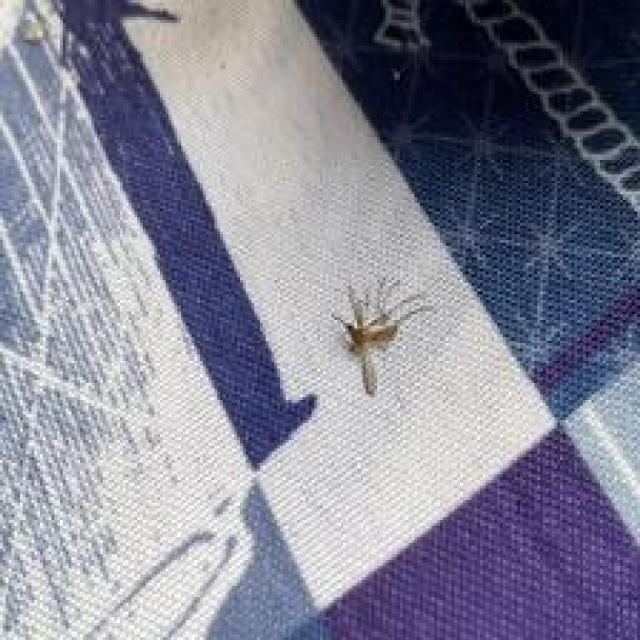Culex: (330, 274, 436, 397)
